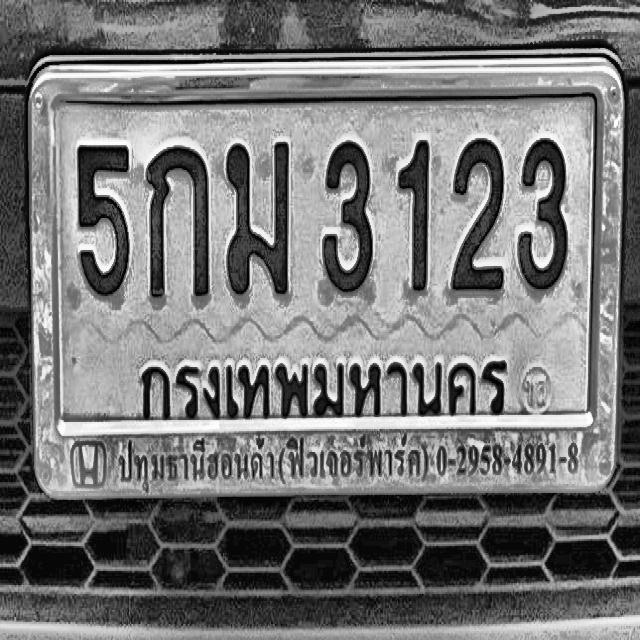license-plate: (16, 26, 633, 529)
